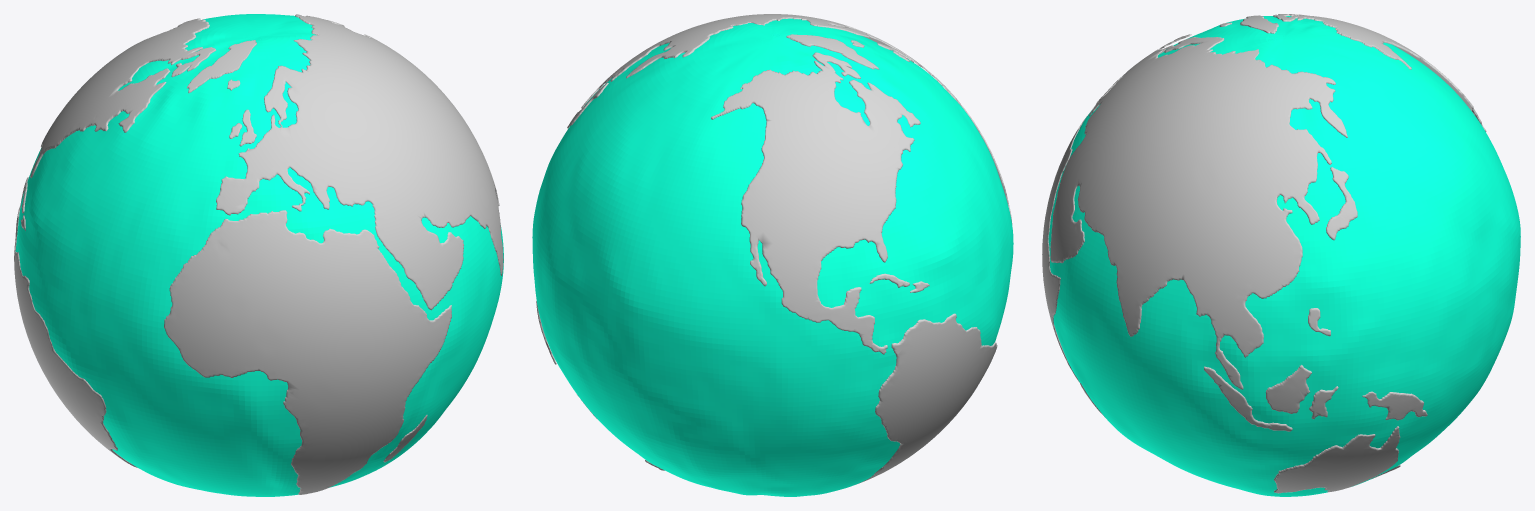
Rendered from World Map - Split 1.fbx.
3 renders of one model, left to right at view 1: azimuth 30°, elevation 25°; view 2: azimuth 150°, elevation 25°; view 3: azimuth 270°, elevation 25°, orthographic.
Parts seen in each view (by area): view 1: Sphere, Afrique, Eurasie, Amérique du Nord, Amérique du Sud; view 2: Sphere, Amérique du Nord, Amérique du Sud, Eurasie; view 3: Sphere, Eurasie, Océanie, Amérique du Nord, Afrique.
Boxes of the visible parts, <box> form: Sphere: <box>15,14,503,496</box>; Afrique: <box>164,210,451,494</box>; Eurasie: <box>216,14,503,310</box>; Amérique du Nord: <box>14,18,256,254</box>; Amérique du Sud: <box>14,252,137,467</box>; Sphere: <box>532,18,1013,496</box>; Amérique du Nord: <box>711,34,929,354</box>; Amérique du Sud: <box>858,313,997,483</box>; Eurasie: <box>567,14,960,128</box>; Sphere: <box>1048,16,1520,496</box>; Eurasie: <box>1050,34,1357,431</box>; Océanie: <box>1274,391,1427,493</box>; Amérique du Nord: <box>1219,14,1486,131</box>; Afrique: <box>1042,101,1104,416</box>.
Size of the model in its own units: 11820 by 11816 by 11753.
